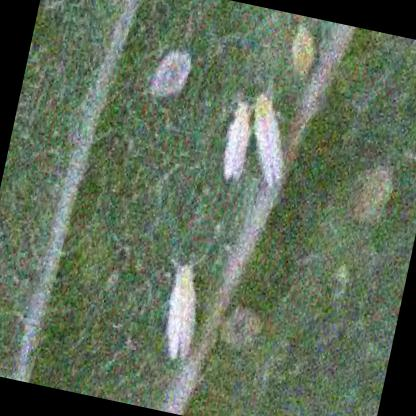whitefly: (166, 266, 196, 362), (224, 106, 252, 185)
